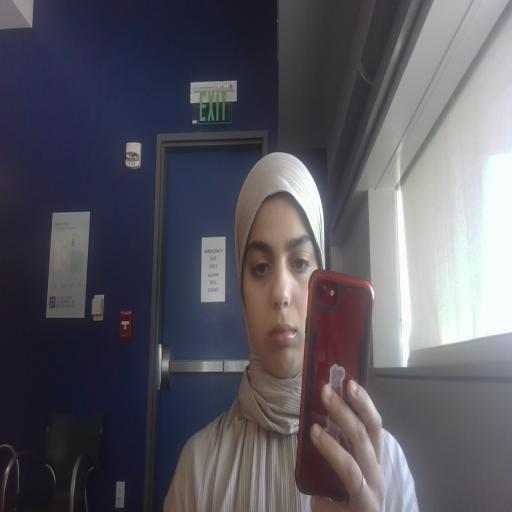phone: (300, 265, 410, 512)
